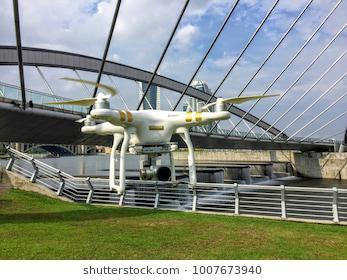drone: (37, 72, 284, 192)
